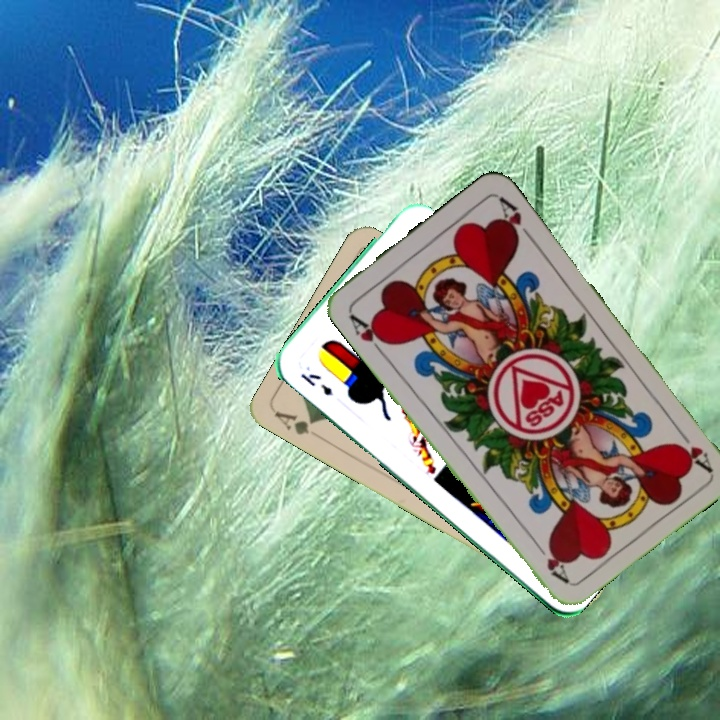EK: (296, 369, 335, 399)
GA: (271, 407, 318, 438)
HA: (345, 309, 392, 358), (670, 422, 714, 474)
